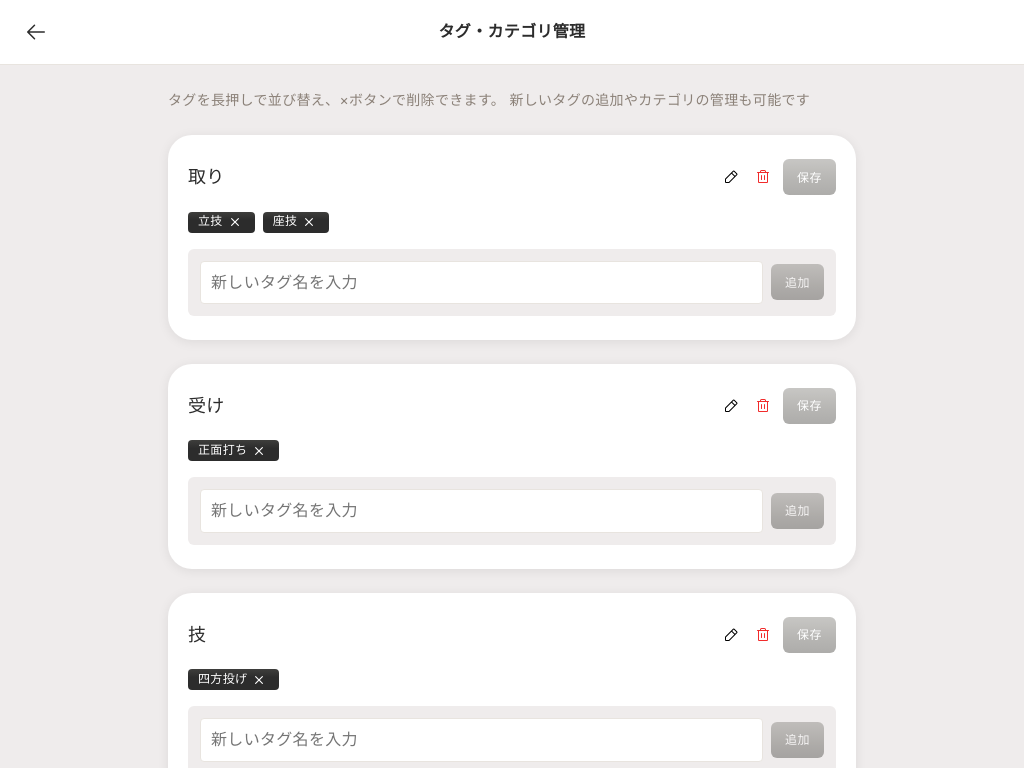
Test case: TagManagement › タグ削除が成功すると一覧から該当タグが消える
The width and height of the screenshot is (1024, 768).
Check: the element "取り" is shown, box [168,135,856,340]
Step 1. Click the button named "Delete tag 立技" → click(235, 222), box [225,216,245,228]
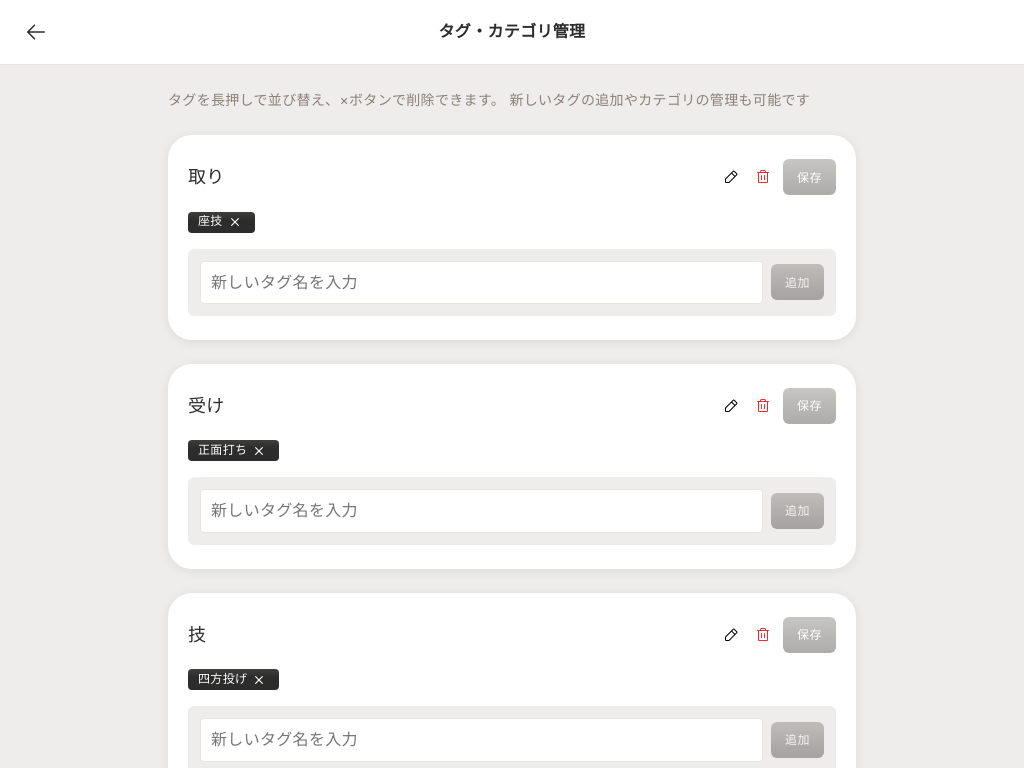
Check: the text "立技" is gone
